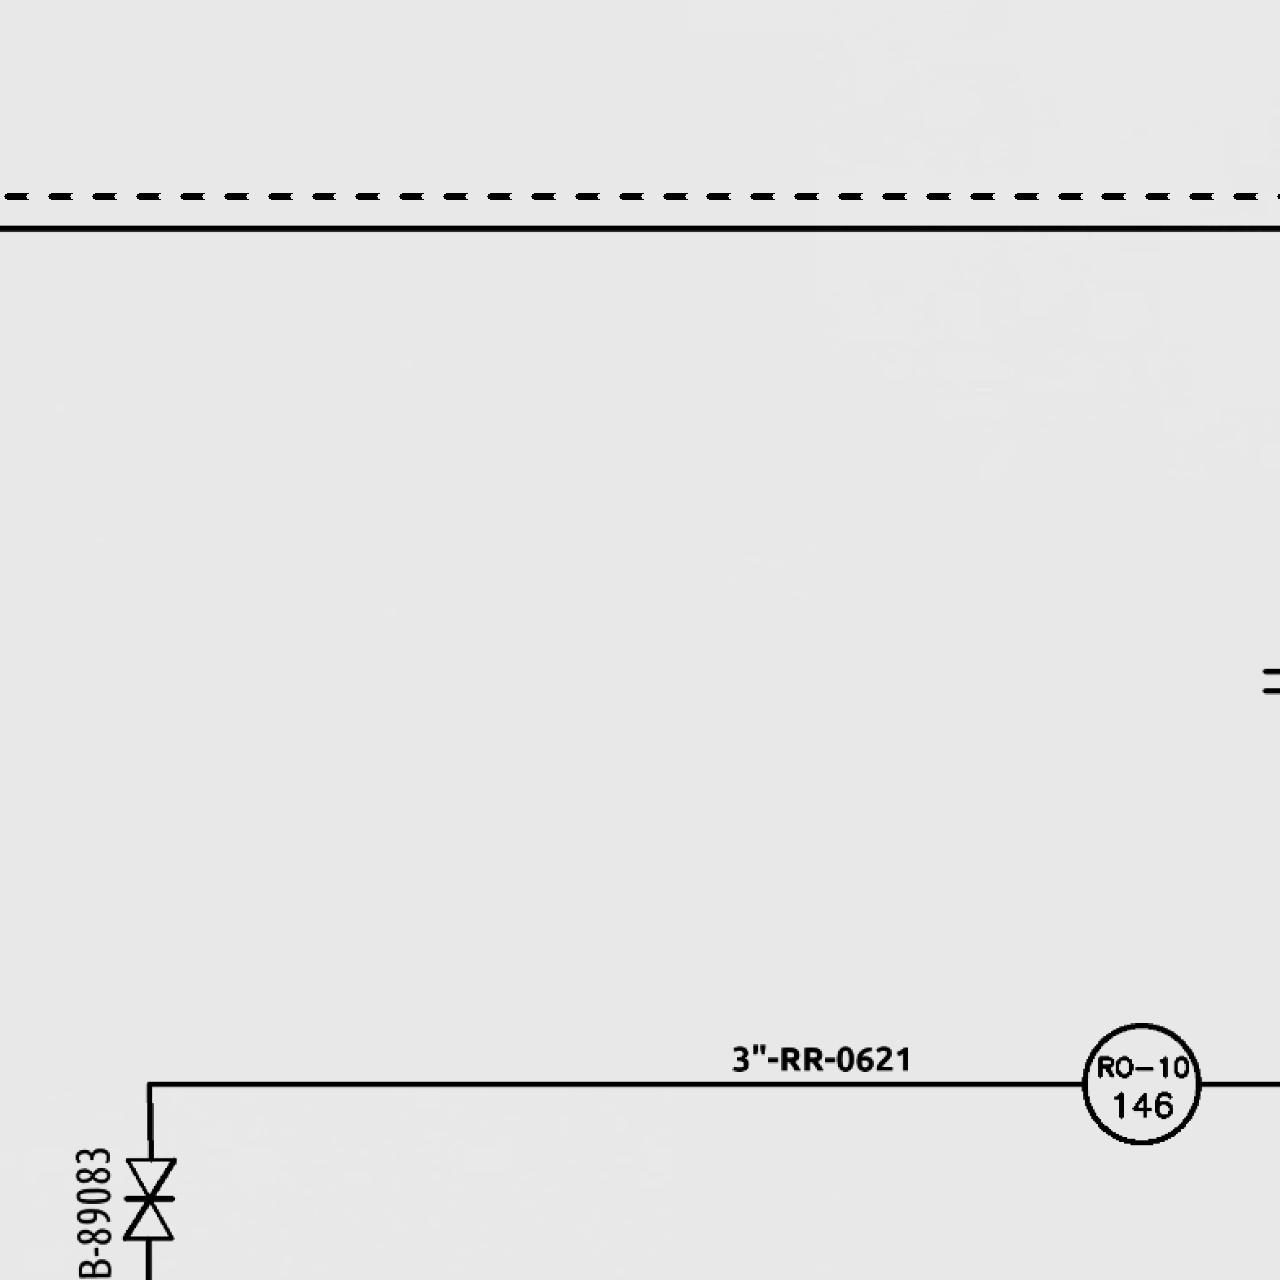Control-Panel: (1075, 1017, 1206, 1148)
